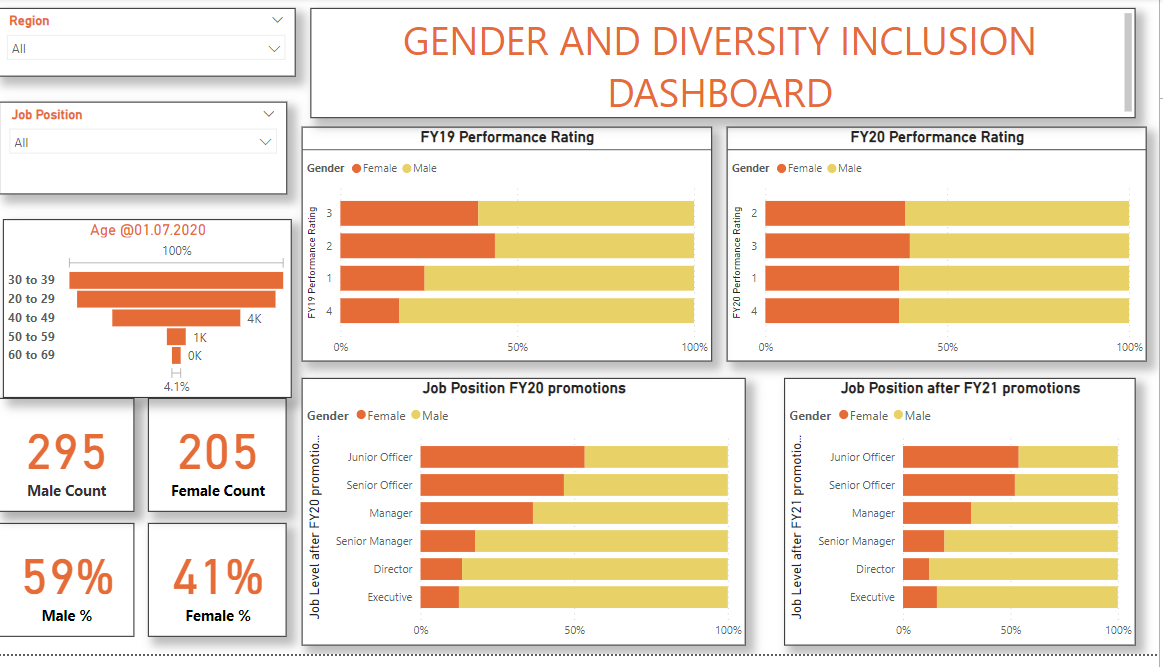

The page's visual inventory and layout, read from the dashboard file:
{"tool":"powerbi","page":{"name":"Dashboard1","canvas":[1280,720],"ordinal":0},"visuals":[{"type":"card","fields":{"Values":["Backing 2.Male %"]},"box":[5.5,576.3,149.6,124.9],"z":0},{"type":"card","fields":{"Values":["Backing 2.Female %"]},"box":[170.2,576.3,152.3,124.9],"z":1000},{"type":"card","fields":{"Values":["Backing 2.Male Count"]},"box":[5.5,439.1,149.6,124.9],"z":2000},{"type":"card","fields":{"Values":["Backing 2.Female Count"]},"box":[170.2,439.1,152.3,124.9],"z":3000},{"type":"slicer","fields":{"Values":["Pharma Group AG.Region group: nationality 1"]},"box":[4.1,11,328,75.5],"z":6000},{"type":"slicer","fields":{"Values":["Pharma Group AG.Job Level before FY20 promotions.2"]},"box":[6.9,113.9,315.6,101.5],"z":7000},{"type":"hundredPercentStackedBarChart","title":" FY20 Performance Rating ","fields":{"Category":["Pharma Group AG.FY20 Performance Rating"],"Series":["Pharma Group AG.Gender"],"Y":["CountNonNull(Pharma Group AG.FY20 Performance Rating)"]},"box":[805.5,141.3,461.1,258],"z":9000},{"type":"funnel","title":"Age @01.07.2020","fields":{"Category":["Pharma Group AG.Age group"],"Y":["Sum(Pharma Group AG.Age @01.07.2020)"]},"box":[11,242.9,317,196.2],"z":10000},{"type":"hundredPercentStackedBarChart","title":"Job Position after FY21 promotions","fields":{"Category":["Pharma Group AG.Job Level after FY21 promotions.2"],"Y":["CountNonNull(Pharma Group AG.Job Level after FY21 promotions.2)"],"Series":["Pharma Group AG.Gender"]},"box":[868.6,417.2,385.6,293.7],"z":11000},{"type":"hundredPercentStackedBarChart","title":"Job Position FY20 promotions","fields":{"Category":["Pharma Group AG.Job Level after FY20 promotions.GRADE"],"Y":["CountNonNull(Pharma Group AG.Job Level after FY20 promotions.GRADE)"],"Series":["Pharma Group AG.Gender"]},"box":[338.9,417.2,487.1,293.7],"z":12000},{"type":"hundredPercentStackedBarChart","title":"FY19 Performance Rating ","fields":{"Category":["Pharma Group AG.FY19 Performance Rating"],"Series":["Pharma Group AG.Gender"],"Y":["CountNonNull(Pharma Group AG.FY19 Performance Rating)"]},"box":[338.9,141.3,450.1,258],"z":13000},{"type":"textbox","box":[348.5,11,905.7,120.8],"z":14000}]}

Visuals, with their boxes in screenshot pixels (x1, y1, x2, y2), scaled from the page's 1280x720 canvas onto the 1163x667 screenshot:
card - Backing 2.Male %: {"x1": 5, "y1": 534, "x2": 141, "y2": 650}
card - Backing 2.Female %: {"x1": 155, "y1": 534, "x2": 293, "y2": 650}
card - Backing 2.Male Count: {"x1": 5, "y1": 407, "x2": 141, "y2": 522}
card - Backing 2.Female Count: {"x1": 155, "y1": 407, "x2": 293, "y2": 522}
slicer - Pharma Group AG.Region group: nationality 1: {"x1": 4, "y1": 10, "x2": 302, "y2": 80}
slicer - Pharma Group AG.Job Level before FY20 promotions.2: {"x1": 6, "y1": 106, "x2": 293, "y2": 200}
" FY20 Performance Rating " hundredPercentStackedBarChart: {"x1": 732, "y1": 131, "x2": 1151, "y2": 370}
"Age @01.07.2020" funnel: {"x1": 10, "y1": 225, "x2": 298, "y2": 407}
"Job Position after FY21 promotions" hundredPercentStackedBarChart: {"x1": 789, "y1": 386, "x2": 1140, "y2": 659}
"Job Position FY20 promotions" hundredPercentStackedBarChart: {"x1": 308, "y1": 386, "x2": 750, "y2": 659}
"FY19 Performance Rating " hundredPercentStackedBarChart: {"x1": 308, "y1": 131, "x2": 717, "y2": 370}
textbox: {"x1": 317, "y1": 10, "x2": 1140, "y2": 122}
